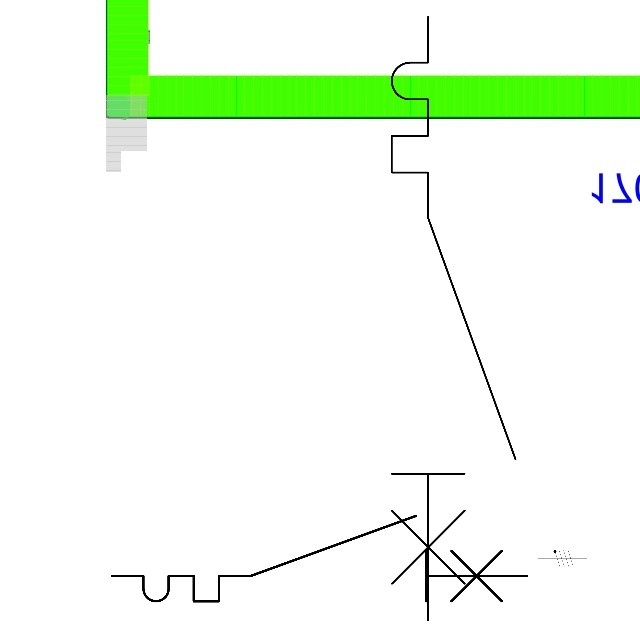interruptor_termomagnetico: (376, 1, 531, 636), (101, 505, 538, 612)
